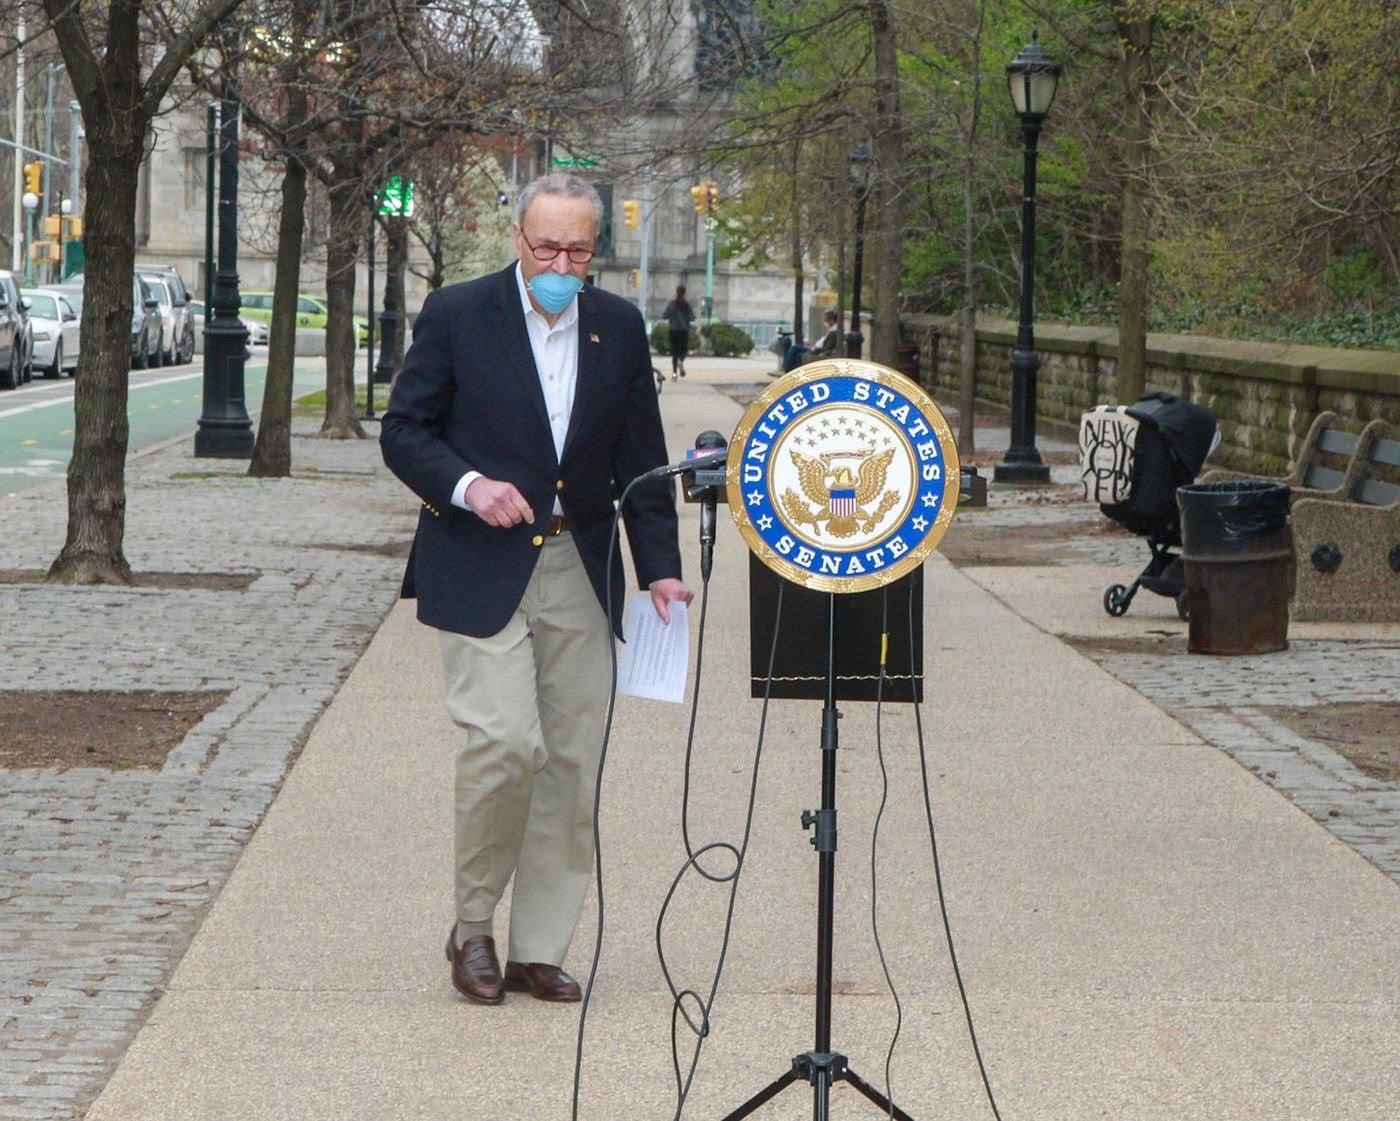face_with_mask: (509, 172, 605, 319)
